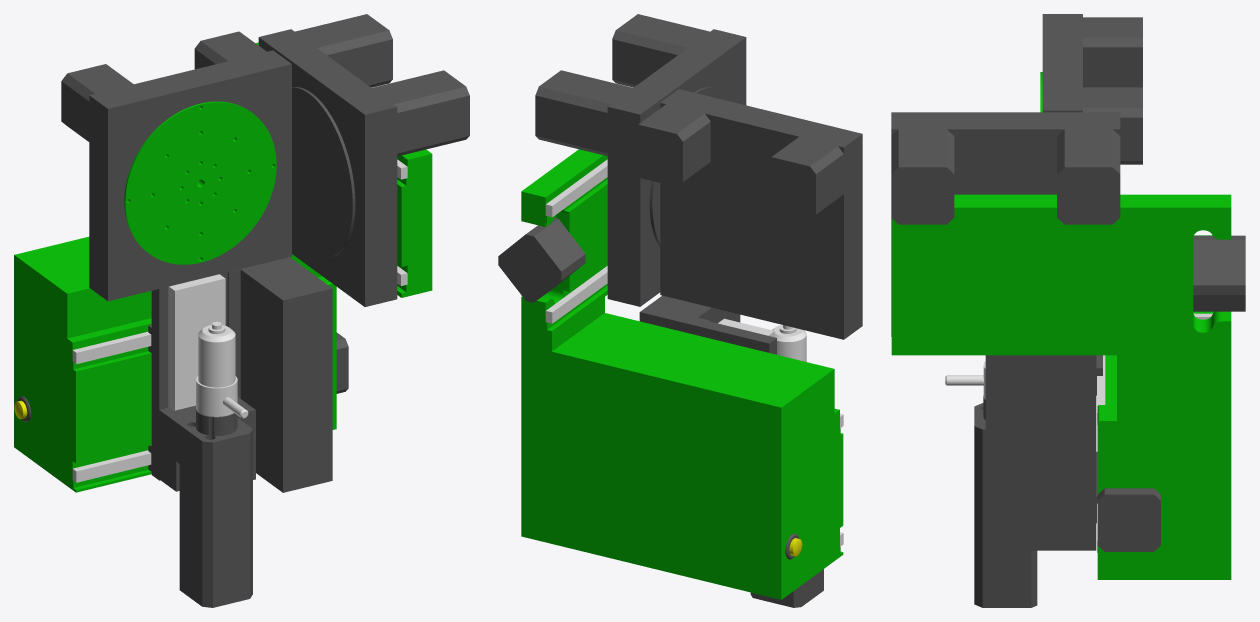
Rendered from v1kickstarter.glb.
3 views of the same model, side by side, from view 1: azimuth 30°, elevation 25°; view 2: azimuth 150°, elevation 25°; view 3: azimuth 270°, elevation 25° (orthographic). The views are drawn at different scales.
Visible parts, largest first — view 1: trunnion, V1 Body, y, x, z, b, zrail, Rails; view 2: V1 Body, trunnion, y, x, Rails, z; view 3: V1 Body, y, x, trunnion, z, Rails.
Boxes of the visible parts, x1,y1,x2,y2 form: trunnion: [61, 31, 355, 301]; V1 Body: [14, 42, 432, 492]; y: [258, 14, 469, 306]; x: [148, 257, 332, 492]; z: [159, 321, 255, 607]; b: [124, 101, 276, 264]; zrail: [168, 274, 225, 410]; Rails: [72, 159, 407, 482]; V1 Body: [498, 149, 843, 599]; trunnion: [632, 86, 862, 339]; y: [535, 14, 746, 306]; x: [639, 295, 776, 354]; Rails: [545, 159, 843, 546]; z: [750, 325, 823, 607]; V1 Body: [891, 194, 1245, 579]; y: [891, 112, 1120, 336]; x: [985, 355, 1102, 550]; trunnion: [1042, 14, 1142, 164]; z: [945, 361, 1037, 607]; Rails: [1097, 313, 1212, 552].
Size of the model in its own units: 9.95 by 15.39 by 9.29.
